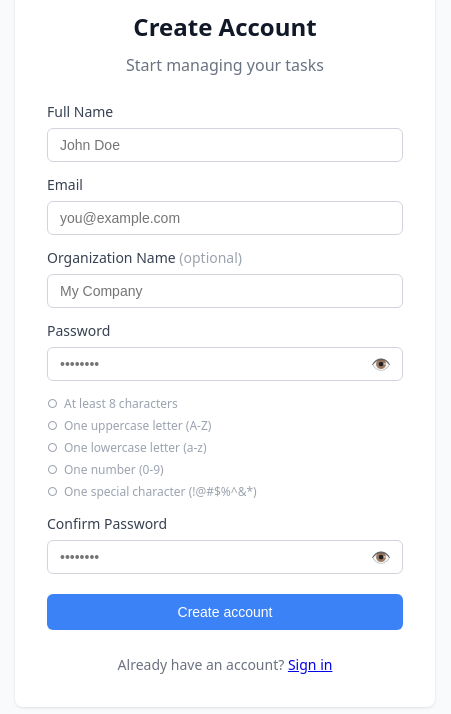
Test case: Register Page › TC-REG-UI-008: Blocks submission if password requirements not met
Step 1. Type "Test User" into the field labelled "Full Name" → (225, 145), box [47, 128, 403, 162]
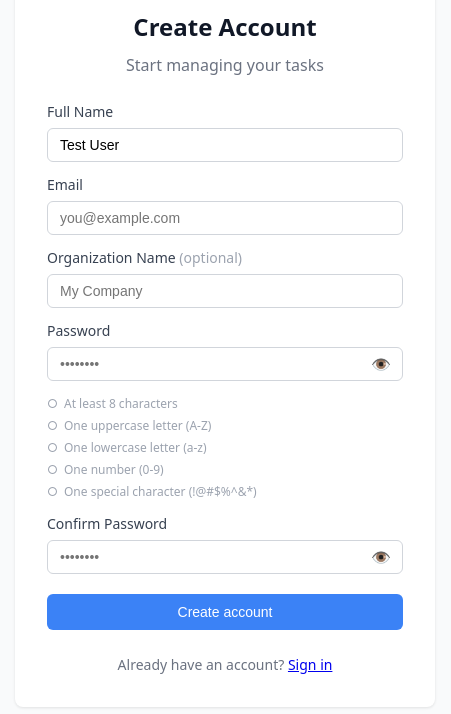
Step 2. Type "test@example.com" into the field labelled "Email" → (225, 218), box [47, 201, 403, 235]
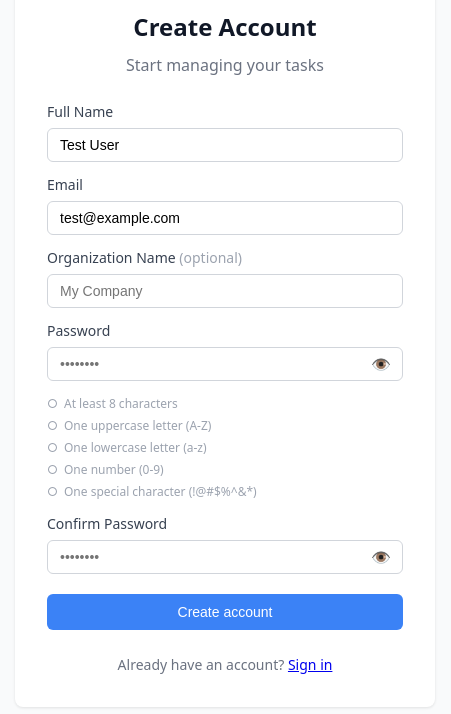
Step 3. Type "weak" into the password field labelled "Password" → (225, 364), box [47, 347, 403, 381]
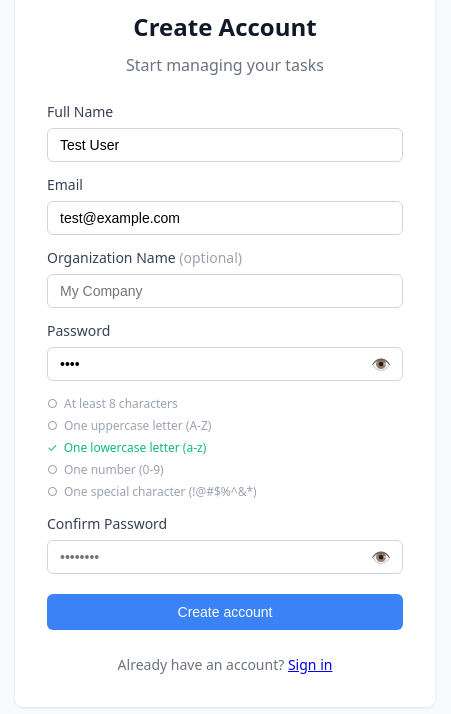
Step 4. Type "weak" into the password field labelled "Confirm Password" → (225, 557), box [47, 540, 403, 574]
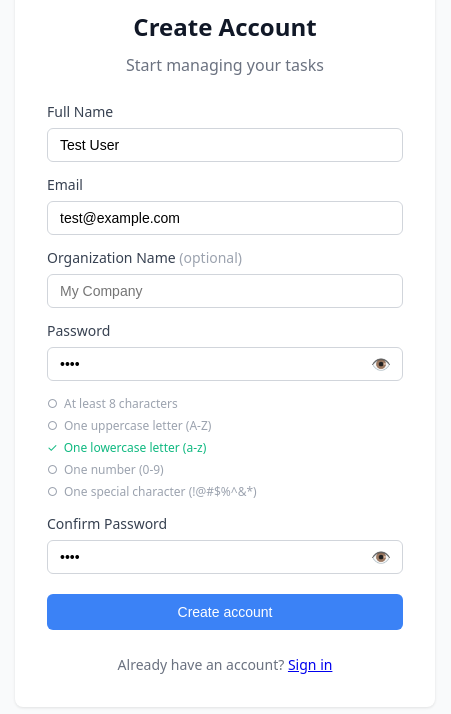
Step 5. Click the button "Create account" → (225, 612), box [47, 594, 403, 630]
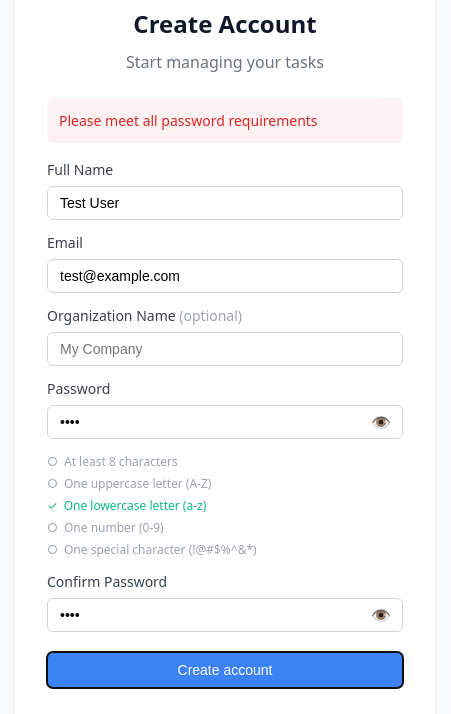
Expected: the text "Please meet all password requirements" is shown, [47, 98, 403, 143]
